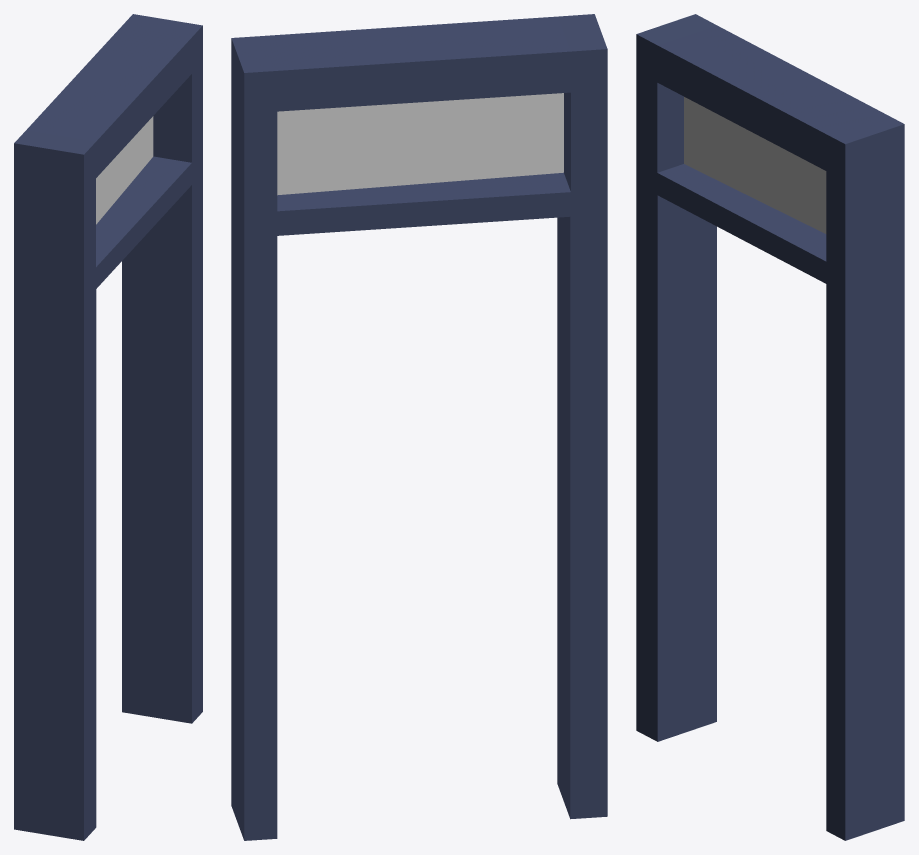
The model's file is kayubiru+ventilasi.fbx.
3 renders of one model, left to right at view 1: azimuth 30°, elevation 25°; view 2: azimuth 150°, elevation 25°; view 3: azimuth 270°, elevation 25°, orthographic. The views are drawn at different scales.
Visible parts, largest first — view 1: Pinggiran Pintu; view 2: Pinggiran Pintu; view 3: Pinggiran Pintu.
Part boxes in pixels (left/top/right/bottom): Pinggiran Pintu: left=14, top=14, right=202, bottom=840; Pinggiran Pintu: left=231, top=14, right=607, bottom=840; Pinggiran Pintu: left=636, top=14, right=904, bottom=840.
Size of the model in its own units: 91.65 by 229 by 79.93.
